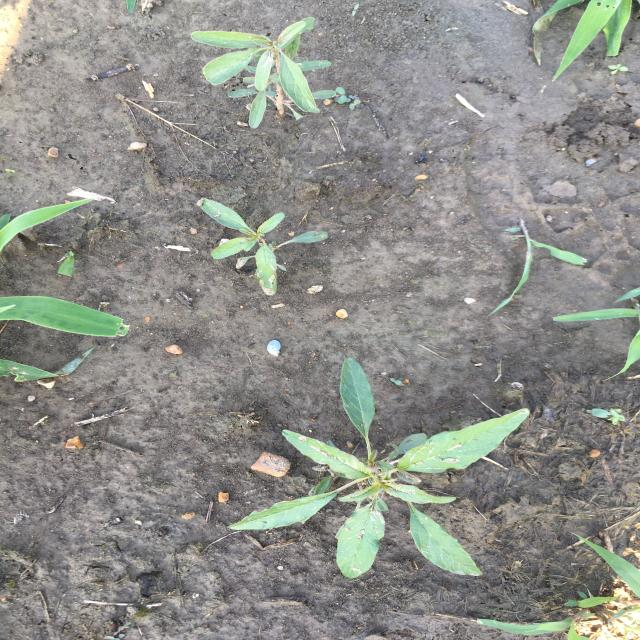Waterhemp: (225, 355, 531, 579), (189, 16, 338, 130), (195, 196, 329, 296)
